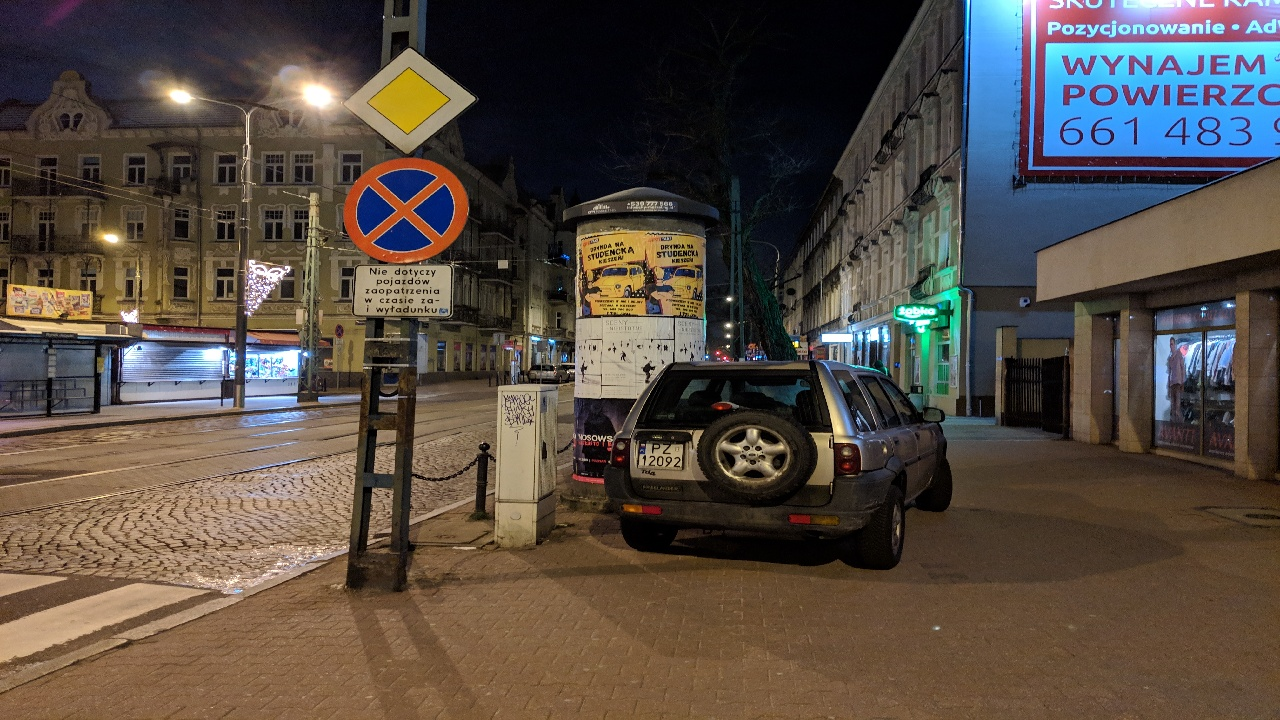B35: (339, 157, 483, 263)
D1: (341, 37, 478, 154)
